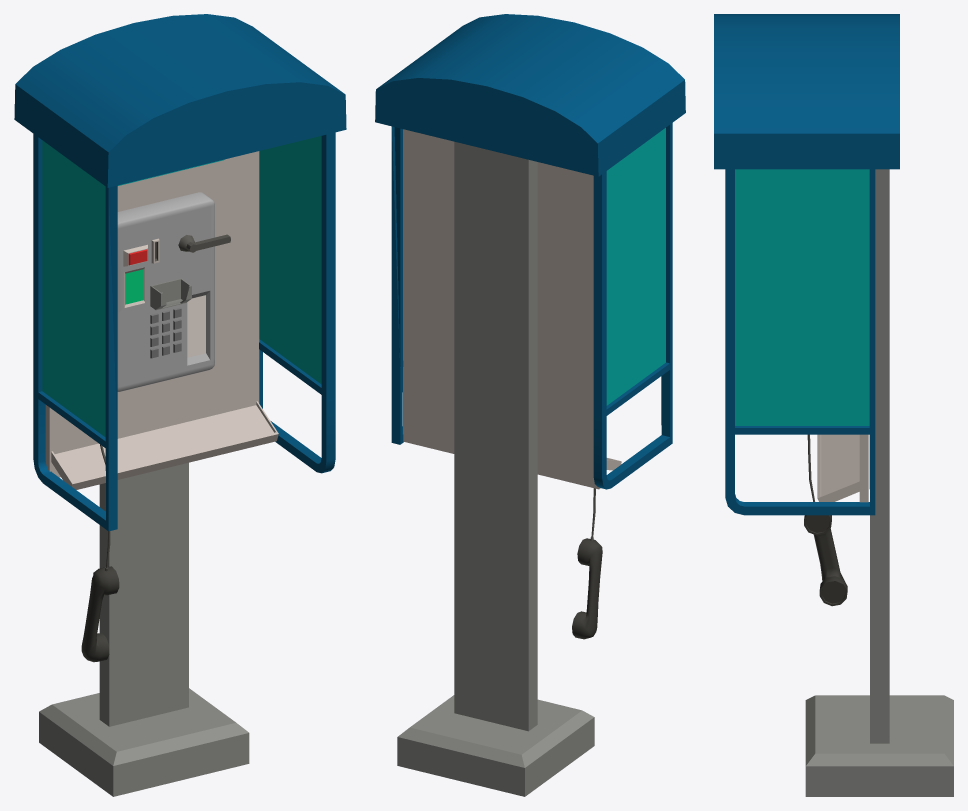
The model's file is Tlf_Booth.fbx.
3 renders of one model, left to right at view 1: azimuth 30°, elevation 25°; view 2: azimuth 150°, elevation 25°; view 3: azimuth 270°, elevation 25°, orthographic. The views are drawn at different scales.
Visible parts, largest first — view 1: Tlf Booth; view 2: Tlf Booth; view 3: Tlf Booth.
Part boxes in pixels (x1,y1,x2,y2): Tlf Booth: (14,14,346,796); Tlf Booth: (375,14,685,796); Tlf Booth: (714,14,953,796).
Bounding box in the file's own units: 126 × 364 × 110.
